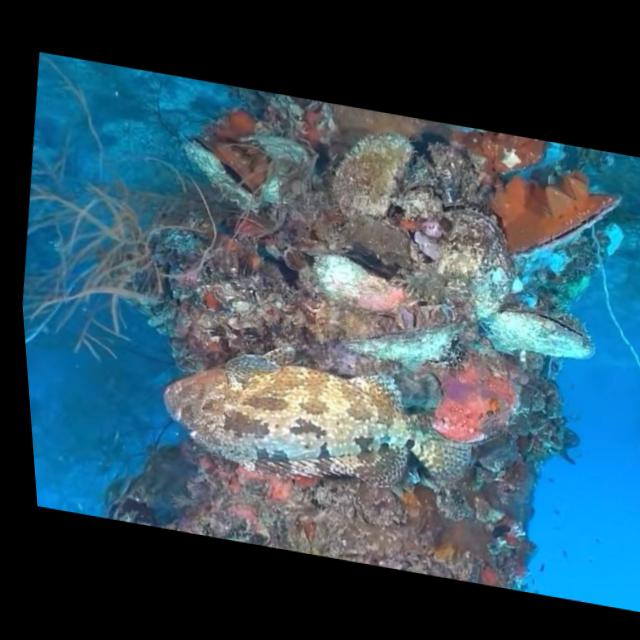Groupers: (146, 333, 485, 510)
